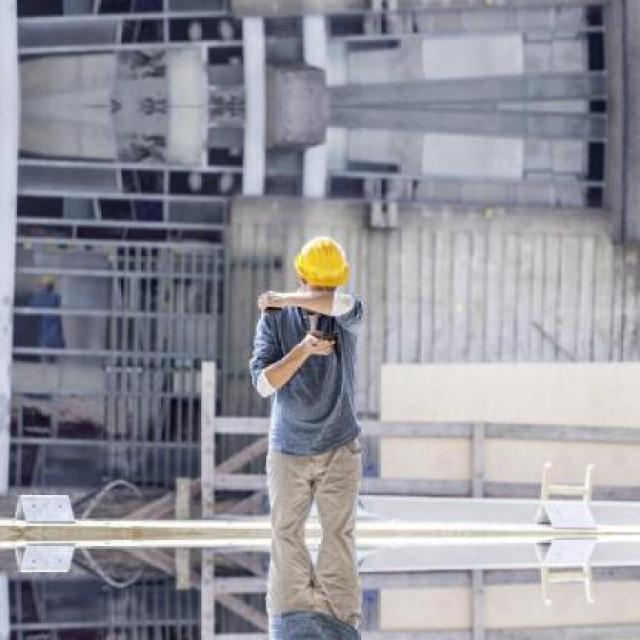hat: (282, 239, 349, 287)
